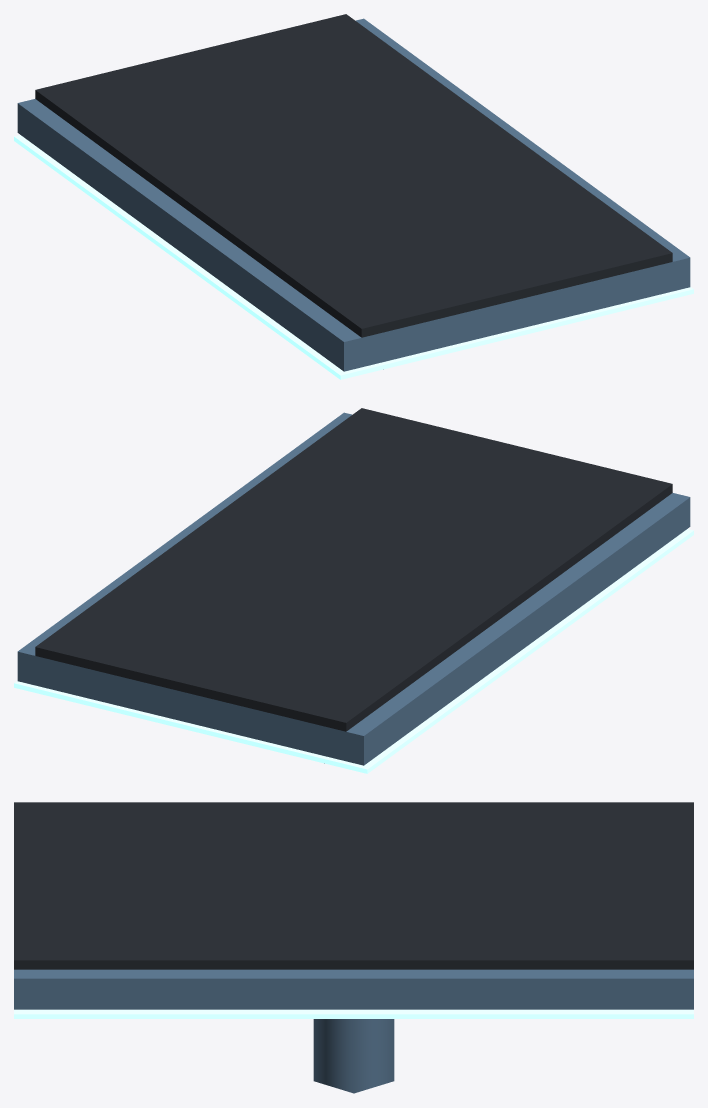
The model's file is road_future_bridge_lod2.glb.
3 views of the same model, one above another, from view 1: azimuth 30°, elevation 25°; view 2: azimuth 150°, elevation 25°; view 3: azimuth 270°, elevation 25° (orthographic). The views are drawn at different scales.
Parts seen in each view (by area): view 1: body; view 2: body; view 3: body.
Part boxes in pixels (<box>): body: <box>14,14,693,379</box>; body: <box>14,408,693,773</box>; body: <box>14,802,693,1093</box>.
Bounding box in the file's own units: 5 × 2.52 × 8.
